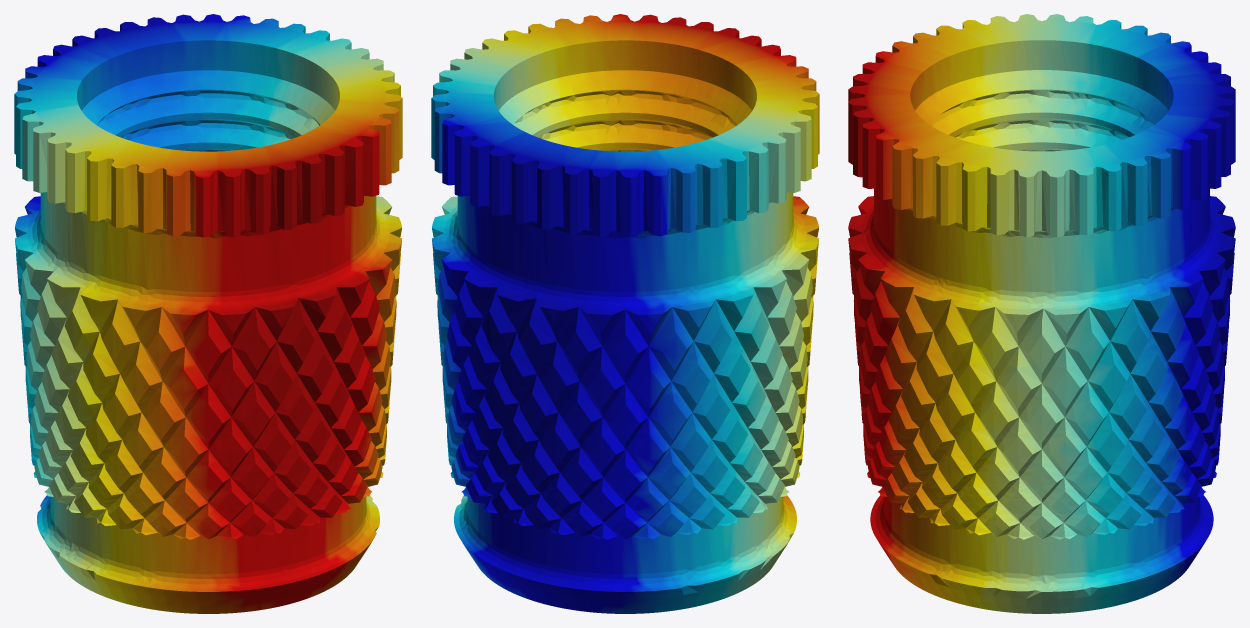
File: fastener_fem.glb
3 renders of one model, left to right at view 1: azimuth 30°, elevation 25°; view 2: azimuth 150°, elevation 25°; view 3: azimuth 270°, elevation 25°, orthographic.
Visible parts, largest first — view 1: genus_1.obj; view 2: genus_1.obj; view 3: genus_1.obj.
Part boxes in pixels (bbox=[...]): genus_1.obj: bbox=[14, 14, 402, 613]; genus_1.obj: bbox=[431, 14, 819, 613]; genus_1.obj: bbox=[848, 14, 1235, 613].
Size of the model in its own units: 1.19 by 1.54 by 1.19.
